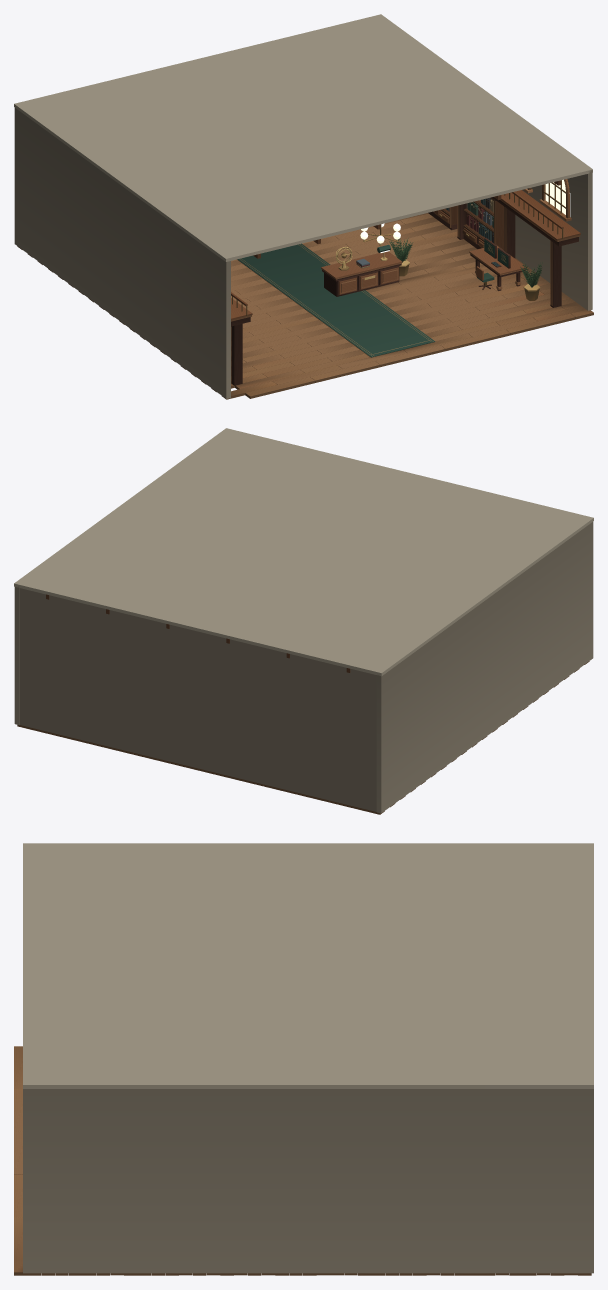
The model's file is hall-low.glb.
The picture shows the model from 3 angles, top to bottom: view 1: azimuth 30°, elevation 25°; view 2: azimuth 150°, elevation 25°; view 3: azimuth 270°, elevation 25°; orthographic projection. The views are drawn at different scales.
Parts seen in each view (by area): view 1: Hall · Limewashed plaster, Hall · Warm limestone, Hall · Library green wool, Hall · Parquet 2, Hall · Parquet 1, Hall · Oiled quarter-sawn oak, Hall · Parquet 4, Hall · Parquet 0, Hall · Walnut joinery, Hall · Parquet 3, Hall · Carved oak molding, Hall · Antiqued bronze (+3 smaller); view 2: Hall · Warm limestone, Hall · Limewashed plaster; view 3: Hall · Limewashed plaster, Hall · Warm limestone, Hall · Parquet 1, Hall · Parquet 2, Hall · Parquet 0.
Part boxes in pixels (bbox=[...]): Hall · Limewashed plaster: bbox=[14, 14, 592, 261]; Hall · Warm limestone: bbox=[14, 108, 592, 398]; Hall · Library green wool: bbox=[237, 239, 508, 357]; Hall · Parquet 2: bbox=[78, 213, 580, 399]; Hall · Parquet 1: bbox=[17, 228, 575, 392]; Hall · Oiled quarter-sawn oak: bbox=[231, 180, 580, 319]; Hall · Parquet 4: bbox=[37, 213, 575, 352]; Hall · Parquet 0: bbox=[58, 232, 593, 398]; Hall · Walnut joinery: bbox=[231, 197, 578, 385]; Hall · Parquet 3: bbox=[129, 217, 564, 377]; Hall · Carved oak molding: bbox=[231, 179, 580, 321]; Hall · Antiqued bronze: bbox=[232, 180, 566, 315]; Hall · Warm limestone: bbox=[14, 522, 593, 813]; Hall · Limewashed plaster: bbox=[14, 428, 593, 676]; Hall · Limewashed plaster: bbox=[23, 843, 593, 1088]; Hall · Warm limestone: bbox=[23, 1089, 593, 1273]; Hall · Parquet 1: bbox=[14, 1131, 577, 1275]; Hall · Parquet 2: bbox=[14, 1089, 481, 1275]; Hall · Parquet 0: bbox=[14, 1046, 564, 1275].
Bounding box in the file's own units: 22 × 8.17 × 22.34.
29 materials, 8 textured.
